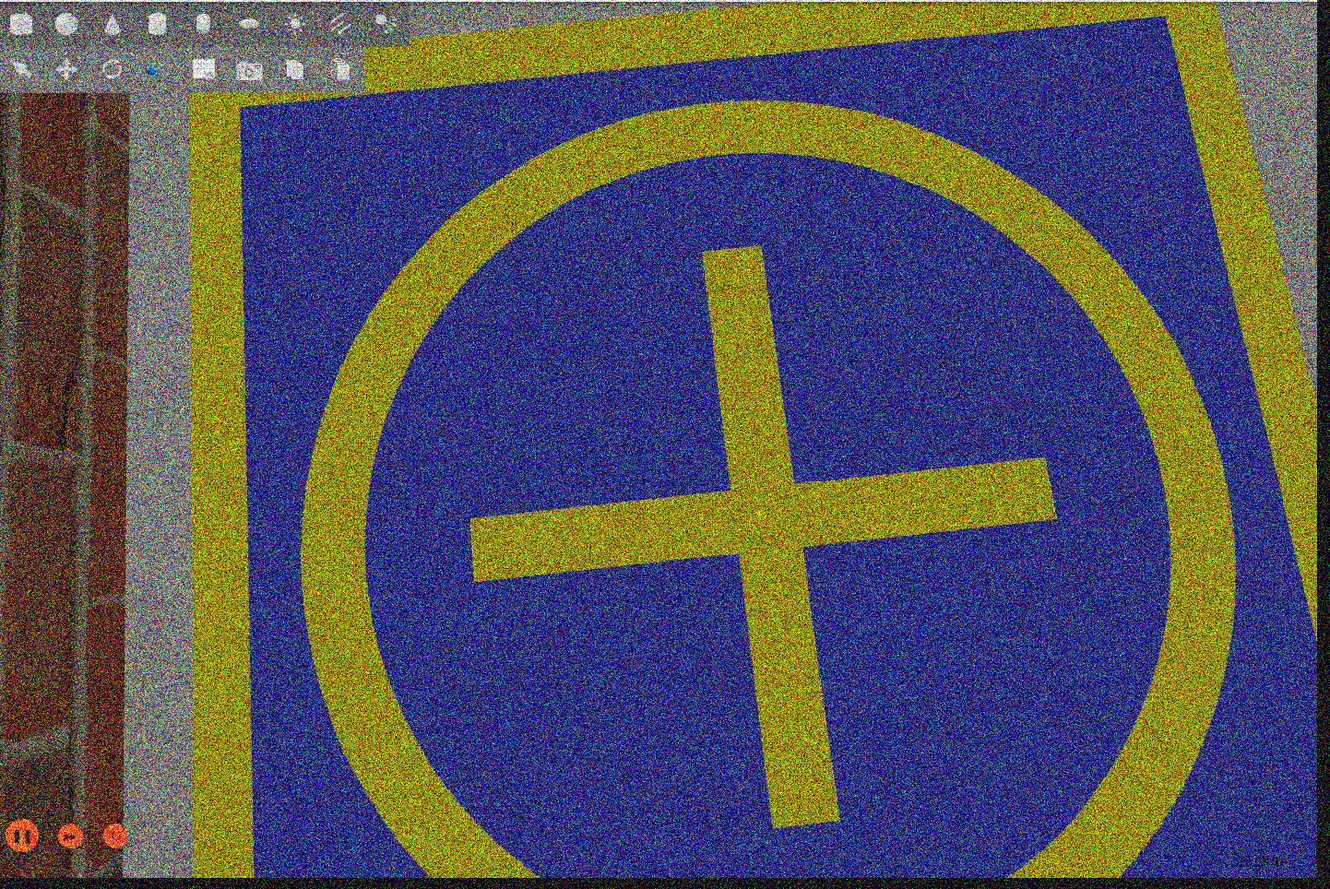small_base: (191, 1, 1319, 879)
